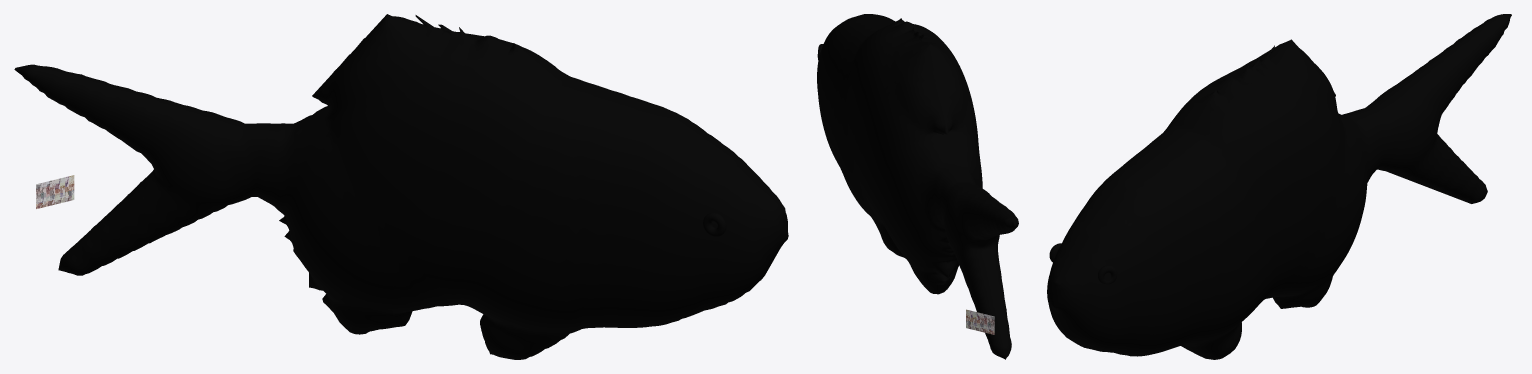
The model's file is G11_AhmedFishByShahid.fbx.
3 views of the same model, side by side, from view 1: azimuth 30°, elevation 25°; view 2: azimuth 150°, elevation 25°; view 3: azimuth 270°, elevation 25° (orthographic). The views are drawn at different scales.
Parts seen in each view (by area): view 1: node_id60, root; view 2: node_id60, root; view 3: node_id60.
Boxes of the visible parts, left/top/right/bottom form: node_id60: left=14, top=14, right=788, bottom=359; root: left=36, top=175, right=74, bottom=208; node_id60: left=817, top=14, right=1018, bottom=359; root: left=966, top=309, right=994, bottom=334; node_id60: left=1047, top=14, right=1511, bottom=359.
Bounding box in the file's own units: 0.4297 × 0.2669 × 0.4012.
3 materials, 2 textured.
